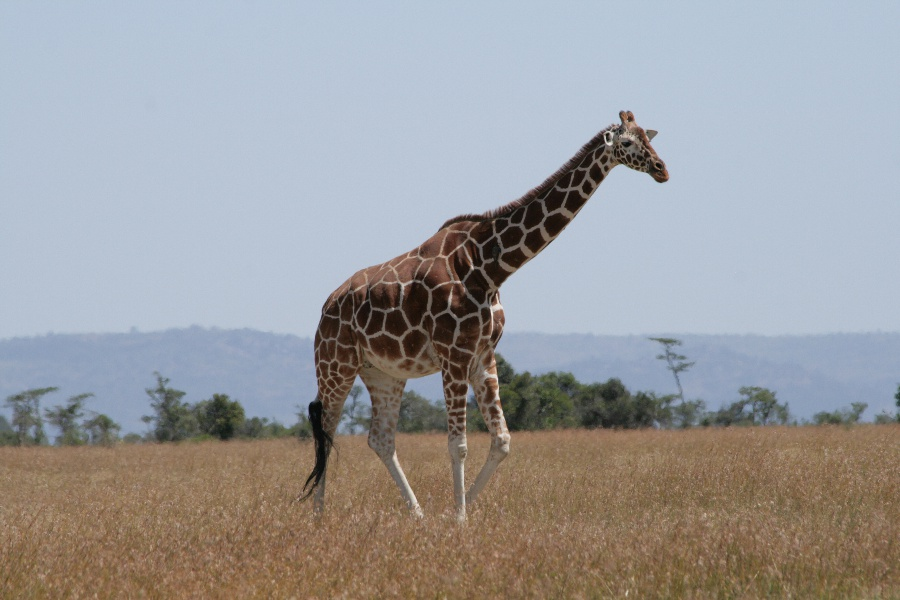giraffe: (293, 105, 670, 539)
